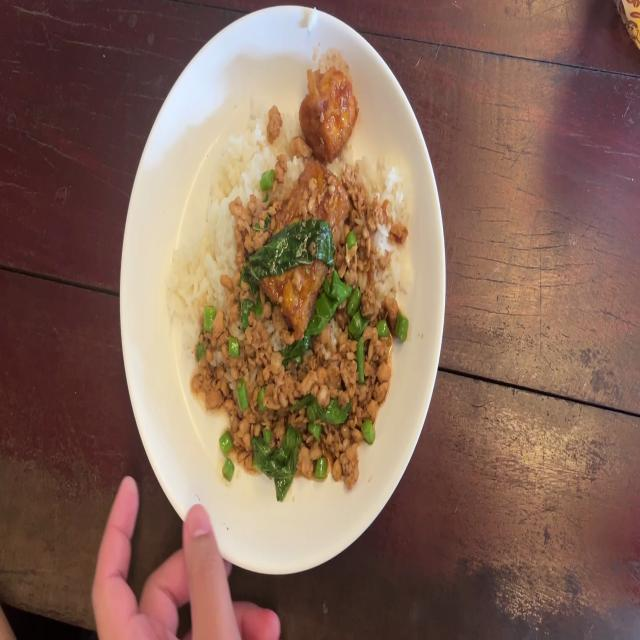01rice: (172, 178, 231, 308), (220, 87, 271, 208), (361, 154, 407, 203), (383, 253, 403, 295), (372, 220, 390, 258), (309, 6, 319, 35)
fried_tofo: (270, 166, 349, 318), (298, 68, 362, 155)
minced_pork: (266, 322, 402, 484), (228, 200, 272, 466), (346, 174, 392, 324), (192, 307, 230, 409)
stir_fried_basil: (171, 67, 413, 490)
